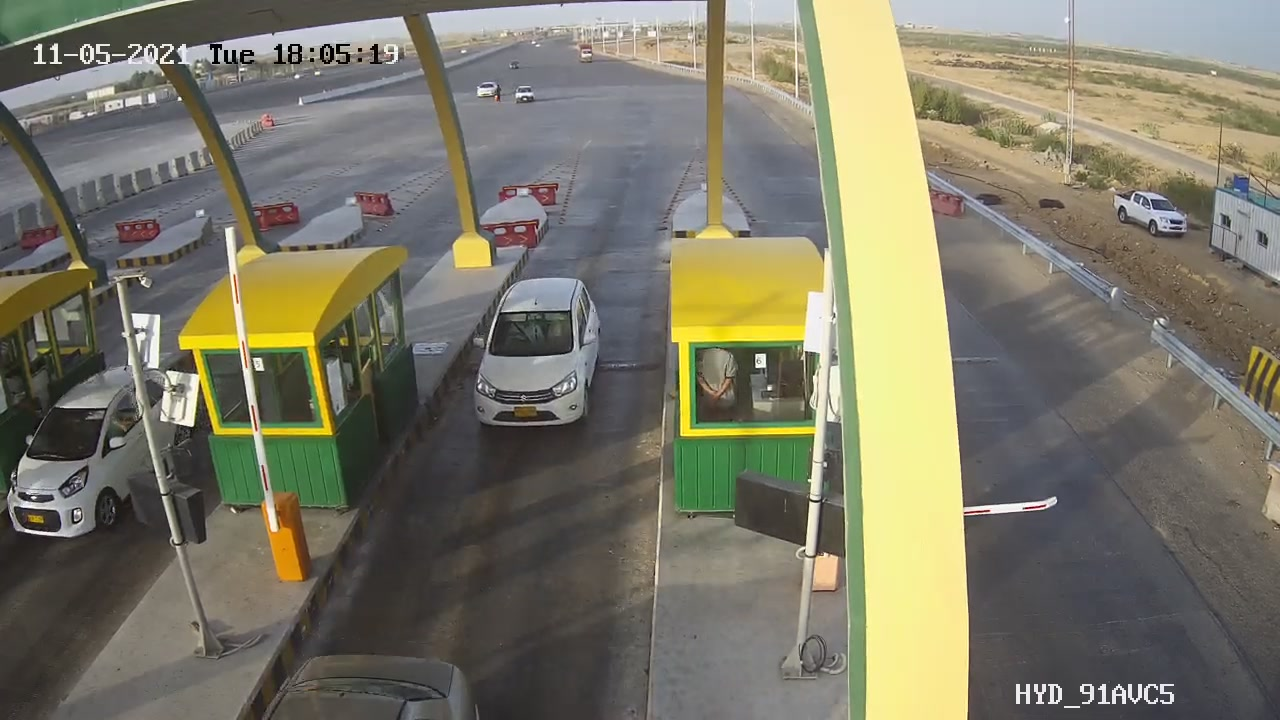F1: (442, 264, 626, 448)
